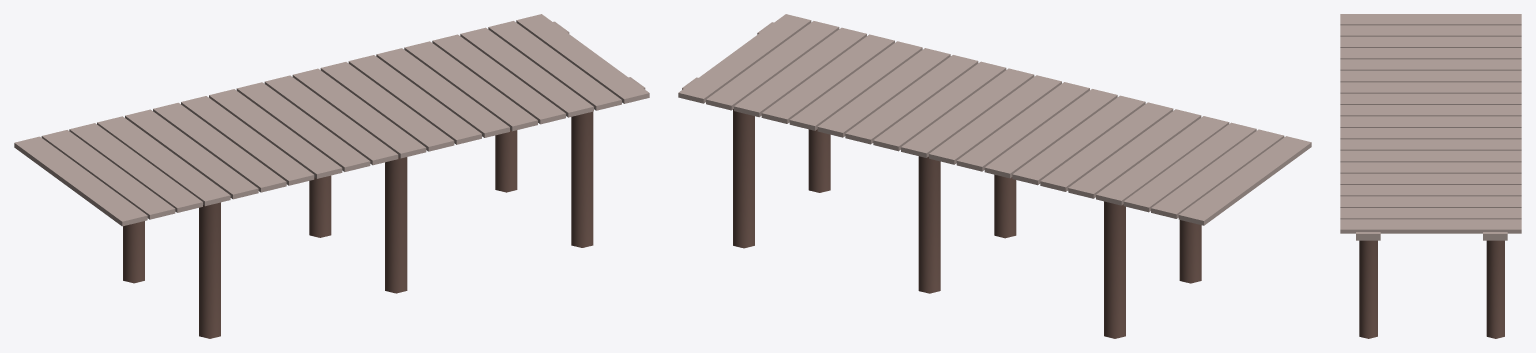
File: bridge_001.glb
3 views of the same model, side by side, from view 1: azimuth 30°, elevation 25°; view 2: azimuth 150°, elevation 25°; view 3: azimuth 270°, elevation 25° (orthographic). The views are drawn at different scales.
Visible parts, largest first — view 1: bridge_001; view 2: bridge_001; view 3: bridge_001.
Part boxes in pixels (x1,y1,x2,y2): bridge_001: [14, 14, 649, 338]; bridge_001: [678, 14, 1311, 338]; bridge_001: [1340, 14, 1521, 338].
Size of the model in its own units: 7.79 by 2.09 by 2.74.
1 material, 1 textured.
